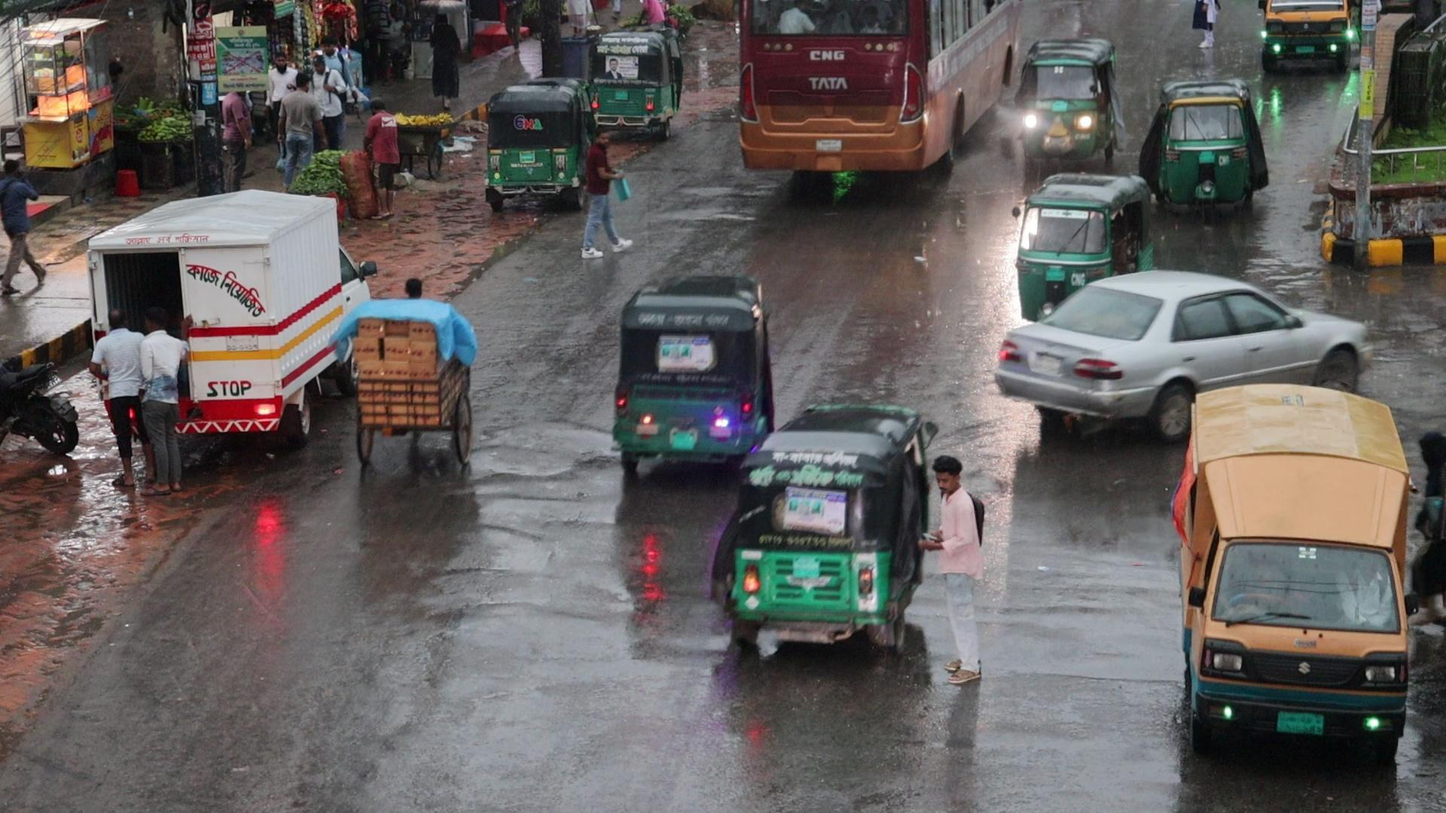Car: (987, 266, 1383, 447)
Truck: (1186, 381, 1414, 776)
